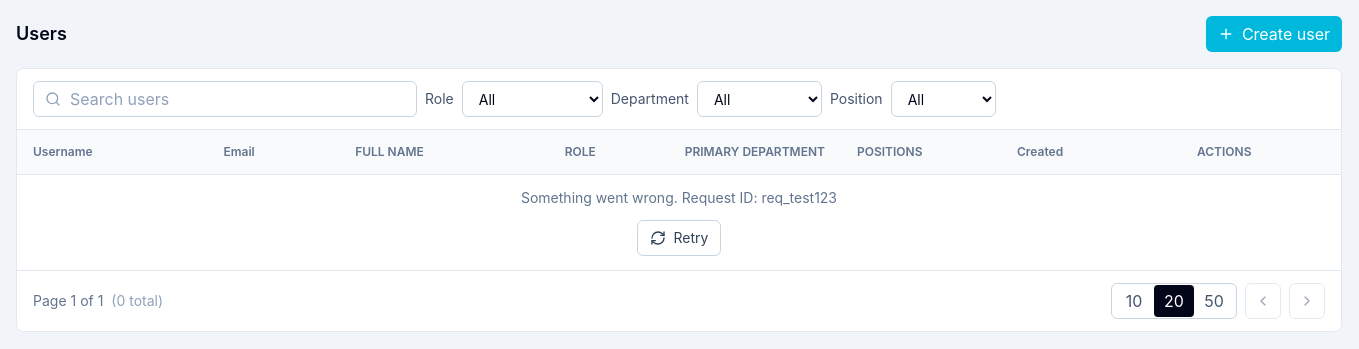
Scenario: UsersPage › renders an error state with retry
Expected: the text "Something went wrong. Request ID: req_test123" is shown, 521,188 -> 837,208
Click the button "Retry" at coordinates (679, 238), box 636,220 -> 721,256
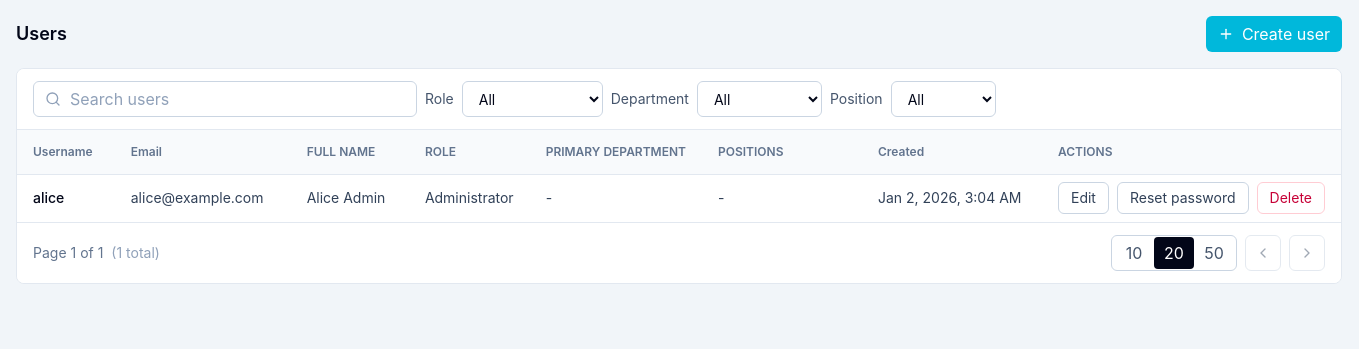
Expected: the text "alice" is shown, 33,189 -> 64,206
